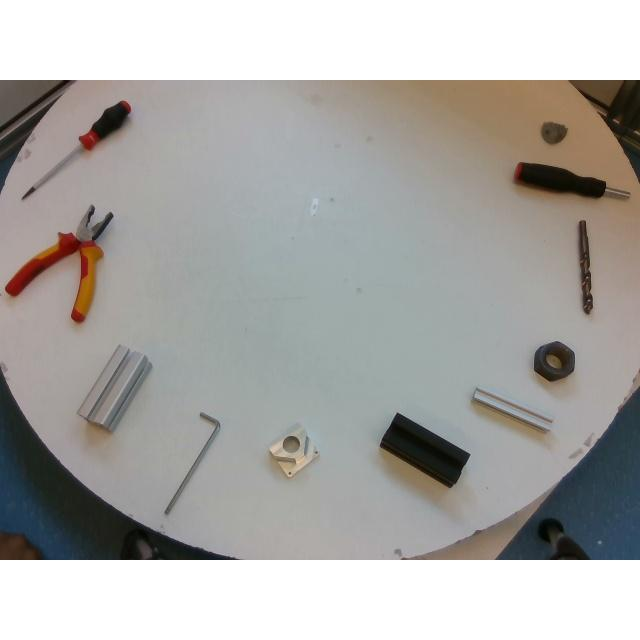Drill: (578, 220, 594, 314)
F20_20_G: (472, 386, 552, 430)
M30: (534, 341, 574, 381)
S40_40_B: (379, 412, 468, 488)
S40_40_G: (77, 346, 151, 430)
